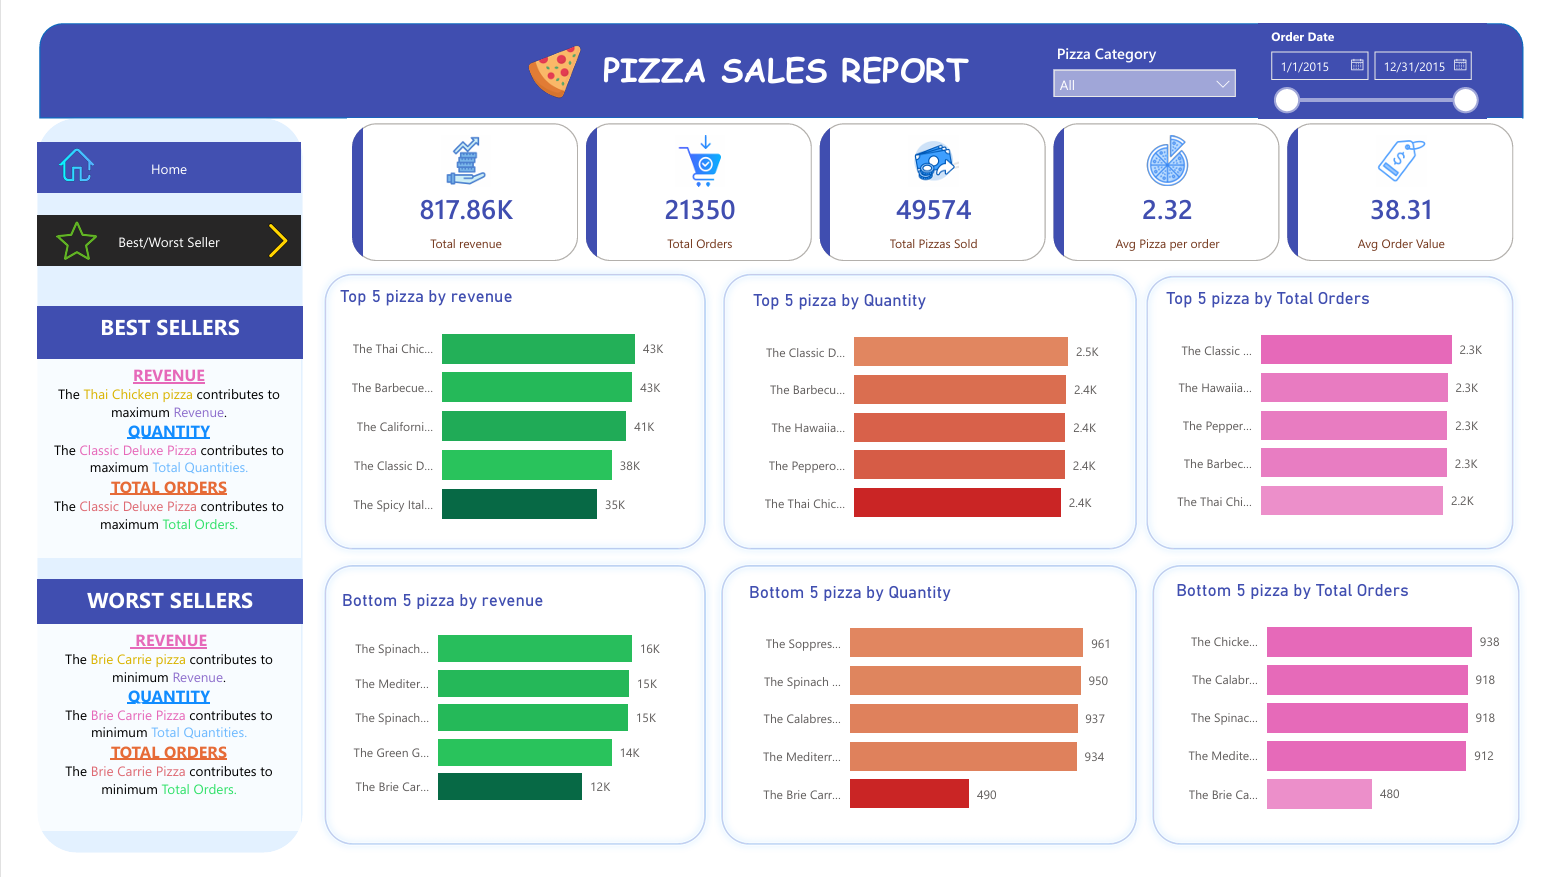

Layout of this report page (visuals, bound fields, positions):
{"tool":"powerbi","page":{"name":"Best/Worst Seller","canvas":[1500,820],"ordinal":1},"visuals":[{"type":"shape","box":[14.2,0,1465.7,94],"z":0},{"type":"textbox","box":[566.1,17.7,386.8,58.6],"z":1000},{"type":"textbox","box":[652.2,41.7,215.6,52.5],"z":2000},{"type":"image","box":[479.1,16,86.9,63.9],"z":3000},{"type":"shape","box":[288,240,392,288],"z":4000},{"type":"shape","box":[1100,242,378,286],"z":5000},{"type":"shape","box":[288,528,392,292],"z":6000},{"type":"shape","box":[680,528,426,292],"z":7000},{"type":"shape","box":[1106,528,378,292],"z":8000},{"type":"cardVisual","fields":{"Data":["pizza_sales.Total revenue","pizza_sales.Total Orders","pizza_sales.Total Pizzas Sold","pizza_sales.Avg Pizza per order","pizza_sales.Avg Order Value"]},"box":[318,94,1160,146],"z":9000},{"type":"shape","box":[12,94,262,726],"z":10000},{"type":"textbox","box":[12,280,262,52],"z":11000},{"type":"textbox","box":[12,550,262,44],"z":12000},{"type":"textbox","box":[12,332,260,196],"z":13000},{"type":"textbox","box":[12,594,260,204],"z":14000},{"type":"slicer","fields":{"Values":["pizza_sales.pizza_category"]},"box":[1006,14,200,68],"z":15000},{"type":"slicer","fields":{"Values":["pizza_sales.order_date"]},"box":[1218,0,226,94],"z":16000},{"type":"pageNavigator","box":[12,118,260,50],"z":17000},{"type":"pageNavigator","box":[12,190,260,50],"z":18000},{"type":"image","box":[12,118,78,44],"z":19000},{"type":"image","box":[228,190,44,50],"z":20000},{"type":"image","box":[12,190,78,50],"z":21000},{"type":"shape","box":[682,240,424,288],"z":22000},{"type":"barChart","title":"Top 5 pizza by revenue","fields":{"Category":["pizza_sales.pizza_name"],"Y":["pizza_sales.Total revenue"]},"box":[306,260,374,252],"z":23000},{"type":"barChart","title":"Bottom 5 pizza by revenue","fields":{"Category":["pizza_sales.pizza_name"],"Y":["pizza_sales.Total revenue"]},"box":[308,560,350,228],"z":24000},{"type":"barChart","title":"Bottom 5 pizza by Quantity","fields":{"Category":["pizza_sales.pizza_name"],"Y":["Sum(pizza_sales.quantity)"]},"box":[710,552,368,246],"z":25000},{"type":"barChart","title":"Top 5 pizza by Quantity","fields":{"Category":["pizza_sales.pizza_name"],"Y":["Sum(pizza_sales.quantity)"]},"box":[714,264,368,246],"z":26000},{"type":"barChart","title":"Bottom 5 pizza by Total Orders","fields":{"Category":["pizza_sales.pizza_name"],"Y":["pizza_sales.Total Orders"]},"box":[1132,550,330,248],"z":27000},{"type":"barChart","title":"Top 5 pizza by Total Orders","fields":{"Category":["pizza_sales.pizza_name"],"Y":["pizza_sales.Total Orders"]},"box":[1122,262,346,246],"z":28000}]}

Visuals, with their boxes in screenshot pixels (x1, y1, x2, y2), scaled from the page's 1500x820 canvas onto the 1566x877 screenshot:
shape: BBox(15, 0, 1545, 101)
textbox: BBox(591, 19, 995, 82)
textbox: BBox(681, 45, 906, 101)
image: BBox(500, 17, 591, 85)
shape: BBox(301, 257, 710, 565)
shape: BBox(1148, 259, 1543, 565)
shape: BBox(301, 565, 710, 876)
shape: BBox(710, 565, 1155, 876)
shape: BBox(1155, 565, 1549, 876)
cardVisual - pizza_sales.Total revenue x pizza_sales.Total Orders: BBox(332, 101, 1543, 257)
shape: BBox(13, 101, 286, 876)
textbox: BBox(13, 299, 286, 355)
textbox: BBox(13, 588, 286, 635)
textbox: BBox(13, 355, 284, 565)
textbox: BBox(13, 635, 284, 853)
slicer - pizza_sales.pizza_category: BBox(1050, 15, 1259, 88)
slicer - pizza_sales.order_date: BBox(1272, 0, 1508, 101)
pageNavigator: BBox(13, 126, 284, 180)
pageNavigator: BBox(13, 203, 284, 257)
image: BBox(13, 126, 94, 173)
image: BBox(238, 203, 284, 257)
image: BBox(13, 203, 94, 257)
shape: BBox(712, 257, 1155, 565)
"Top 5 pizza by revenue" barChart: BBox(319, 278, 710, 548)
"Bottom 5 pizza by revenue" barChart: BBox(322, 599, 687, 843)
"Bottom 5 pizza by Quantity" barChart: BBox(741, 590, 1125, 853)
"Top 5 pizza by Quantity" barChart: BBox(745, 282, 1130, 545)
"Bottom 5 pizza by Total Orders" barChart: BBox(1182, 588, 1526, 853)
"Top 5 pizza by Total Orders" barChart: BBox(1171, 280, 1533, 543)
